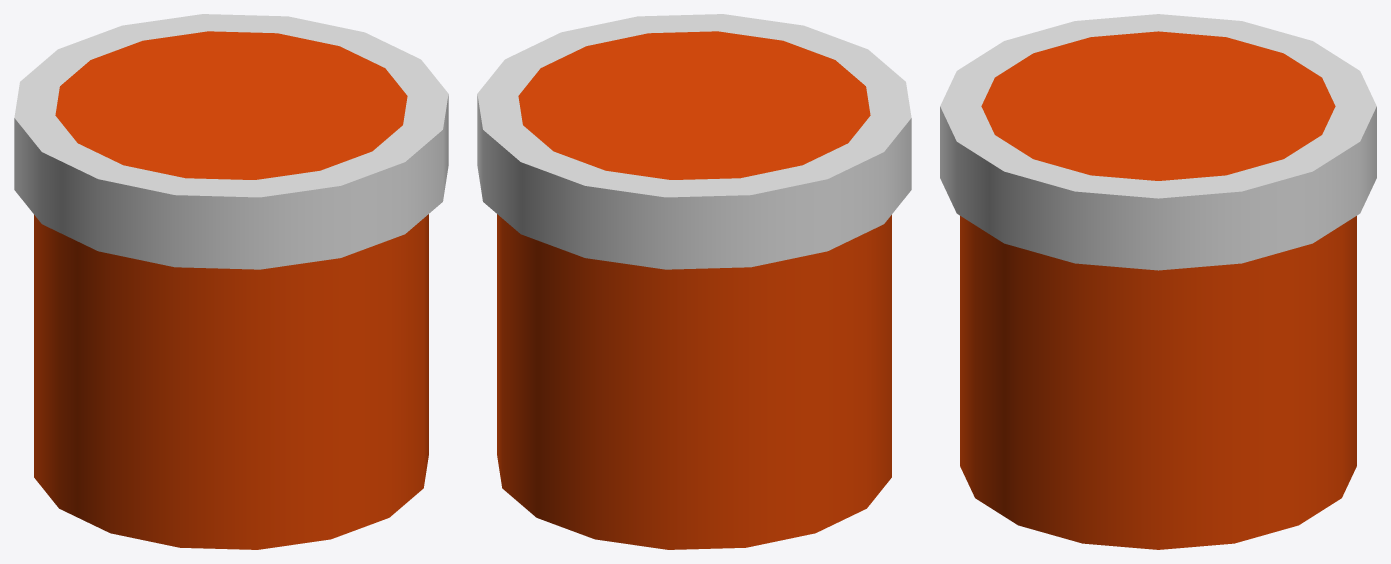
The model's file is PaintCan.fbx.
3 views of the same model, side by side, from view 1: azimuth 30°, elevation 25°; view 2: azimuth 150°, elevation 25°; view 3: azimuth 270°, elevation 25° (orthographic).
Parts seen in each view (by area): view 1: SM_PaintCan; view 2: SM_PaintCan; view 3: SM_PaintCan.
Part boxes in pixels (<box>): SM_PaintCan: <box>14,14,448,549</box>; SM_PaintCan: <box>477,14,911,549</box>; SM_PaintCan: <box>940,14,1376,549</box>.
Bounding box in the file's own units: 220 × 220 × 200.
